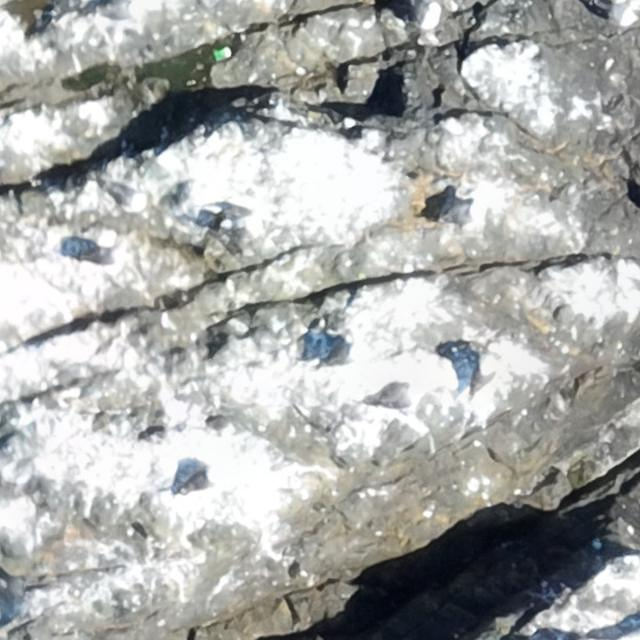umineko: (99, 179, 149, 215), (373, 381, 418, 415), (472, 352, 496, 400), (76, 244, 125, 266), (321, 346, 358, 366), (180, 472, 216, 492)
